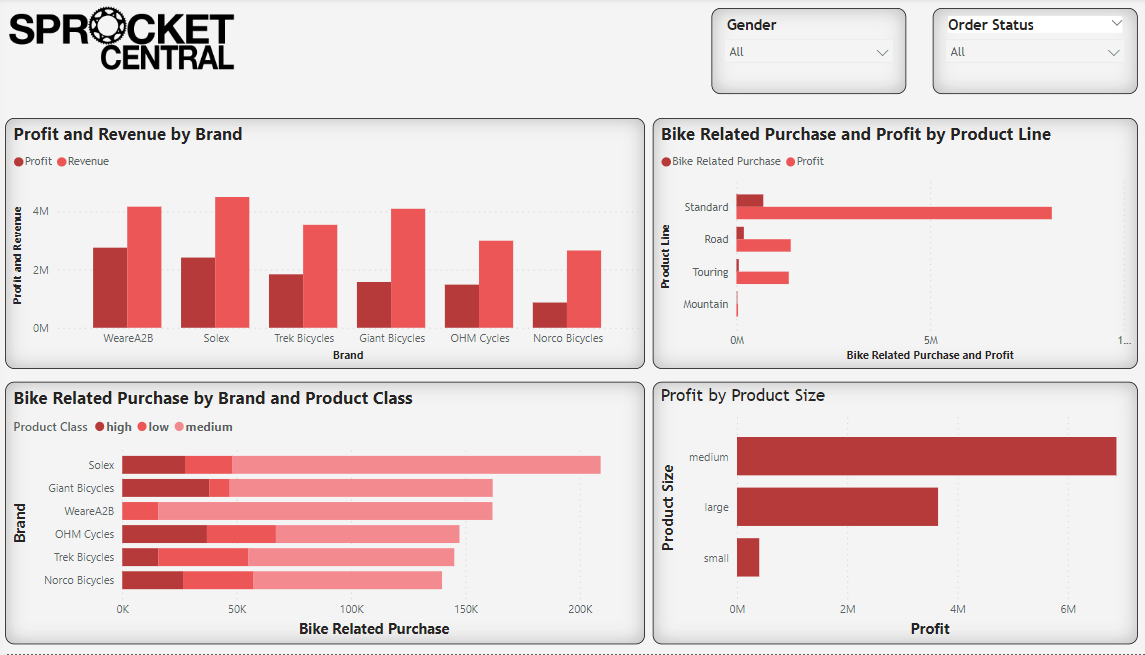

The dashboard page shown, as its layout file describes it:
{"tool":"powerbi","page":{"name":"Page 2","canvas":[1280,720],"ordinal":1},"visuals":[{"type":"barChart","fields":{"Category":["Merged Worksheet.brand"],"Y":["Sum(Merged Worksheet.past_3_years_bike_related_purchases)"],"Series":["Merged Worksheet.product_class"]},"box":[1.4,420.9,702,287.9],"z":0},{"type":"clusteredColumnChart","fields":{"Category":["Merged Worksheet.brand"],"Y":["Sum(Merged Worksheet.Profit)","Sum(Merged Worksheet.list_price)"]},"box":[1.4,131.6,702,275.6],"z":1000},{"type":"clusteredBarChart","fields":{"Category":["Merged Worksheet.product_line"],"Y":["Sum(Merged Worksheet.past_3_years_bike_related_purchases)","Sum(Merged Worksheet.Profit)"]},"box":[711.6,131.6,532,275.6],"z":2000},{"type":"image","box":[0,0,264,105.1],"z":3000},{"type":"clusteredBarChart","fields":{"Y":["Sum(Merged Worksheet.Profit)"],"Category":["Merged Worksheet.product_size"]},"box":[711.6,420.9,532,287.9],"z":4000},{"type":"slicer","fields":{"Values":["Merged Worksheet.order_status"]},"box":[1018.7,11,224.9,94.6],"z":5000},{"type":"slicer","fields":{"Values":["Merged Worksheet.gender"]},"box":[776,11,213.9,94.6],"z":6000}]}

Visuals, with their boxes in screenshot pixels (x1, y1, x2, y2), scaled from the page's 1280x720 canvas onto the 1145x655 screenshot:
barChart - Merged Worksheet.brand x Sum(Merged Worksheet.past_3_years_bike_related_purchases): select_region(1, 383, 629, 645)
clusteredColumnChart - Merged Worksheet.brand x Sum(Merged Worksheet.Profit): select_region(1, 120, 629, 370)
clusteredBarChart - Merged Worksheet.product_line x Sum(Merged Worksheet.past_3_years_bike_related_purchases): select_region(637, 120, 1112, 370)
image: select_region(0, 0, 236, 96)
clusteredBarChart - Sum(Merged Worksheet.Profit) x Merged Worksheet.product_size: select_region(637, 383, 1112, 645)
slicer - Merged Worksheet.order_status: select_region(911, 10, 1112, 96)
slicer - Merged Worksheet.gender: select_region(694, 10, 885, 96)
